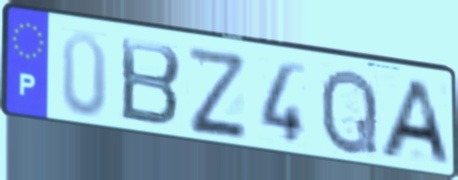0: (59, 29, 110, 120)
4: (257, 58, 309, 147)
A: (375, 78, 455, 169)
B: (118, 35, 184, 130)
Q: (318, 66, 381, 158)
Z: (184, 43, 249, 138)
